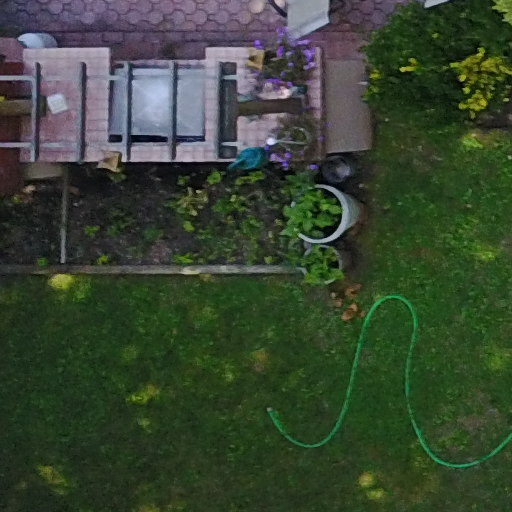flower pot: (280, 181, 369, 244), (292, 241, 362, 286), (260, 41, 322, 89), (278, 123, 311, 157)
